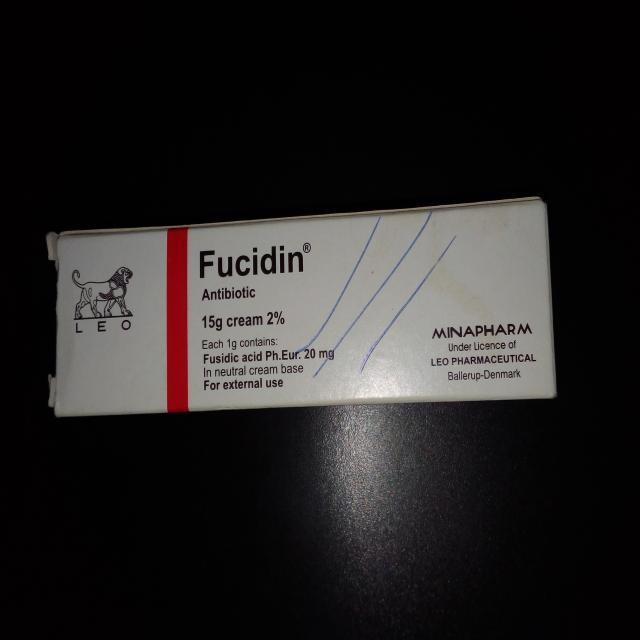Medicine: (46, 195, 563, 416)
